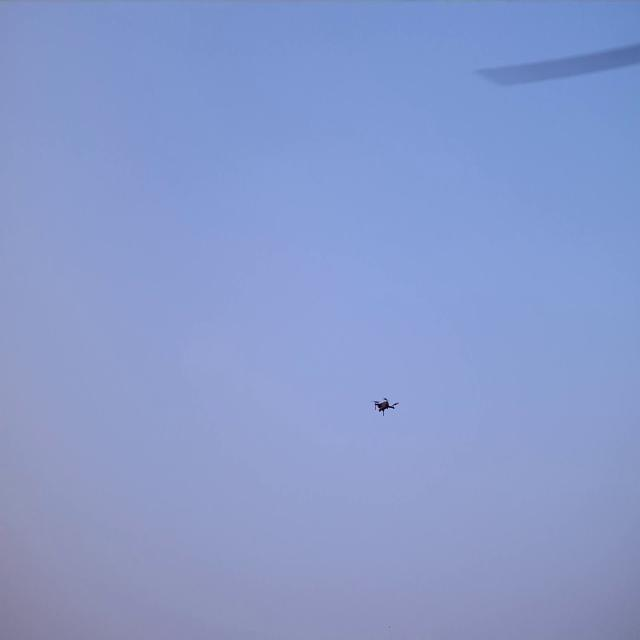UAV: (374, 398, 396, 415)
